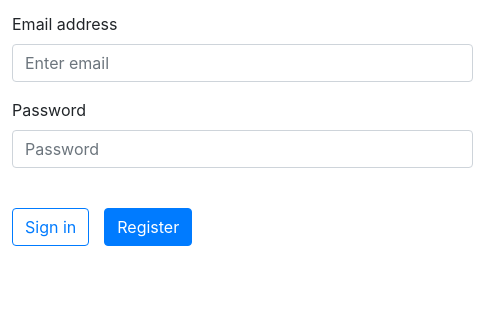
Tests of Sign up form › Show error for sign up - existed or invalid email
This screenshot has width=490, height=329.
Type "haipham@gmail.com" into the field labelled "Email address" at (242, 63), box [12, 44, 473, 82]
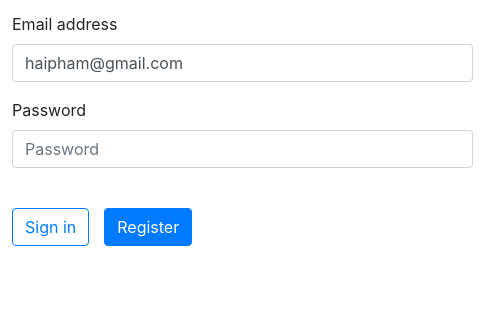
Click the button "Register" at (148, 227), box [104, 208, 192, 246]
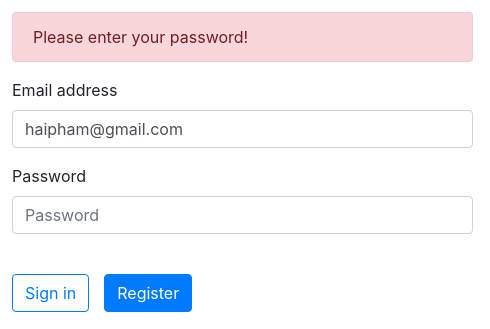
Check: the message reads "Please enter your password!", box [33, 27, 248, 47]
Type "111" into the password field labelled "Password" at (242, 215), box [12, 196, 473, 234]
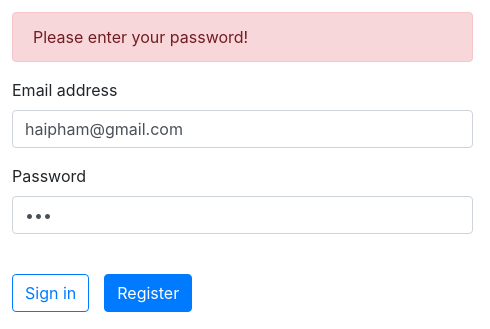
Click the button "Register" at (148, 293), box [104, 274, 192, 312]
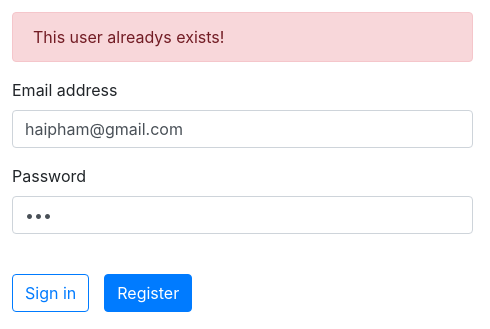
Check: the message reads "This user alreadys exists!", box [33, 27, 224, 47]
Clear the field labelled "Email address" at (242, 129), box [12, 110, 473, 148]
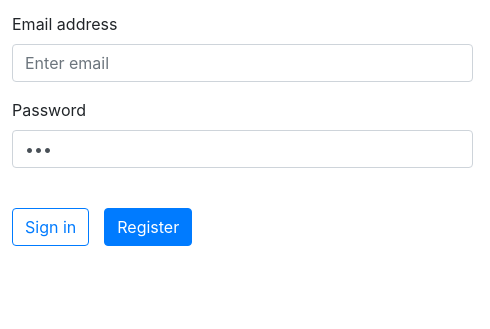
Click the button "Register" at (148, 227), box [104, 208, 192, 246]
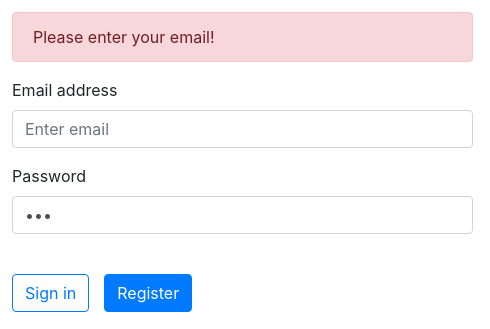
Check: the message reads "Please enter your email!", box [33, 27, 214, 47]
